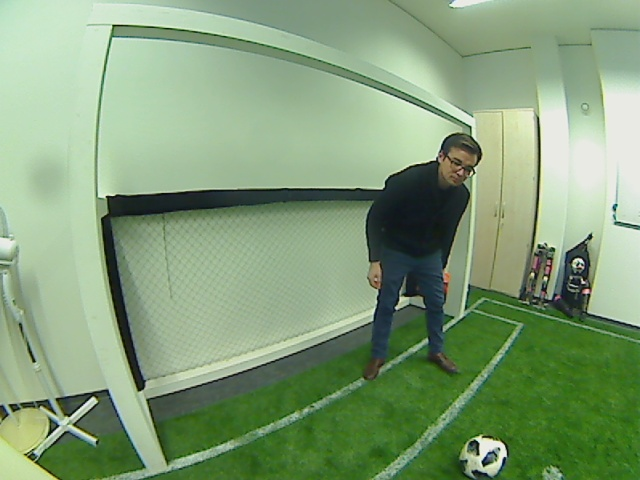ball: (458, 434, 510, 479)
